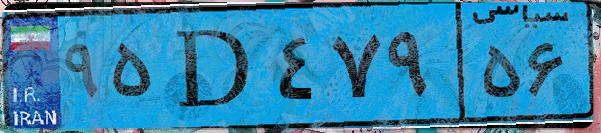4: (270, 28, 330, 110)
5: (475, 38, 525, 113), (110, 28, 158, 98)
6: (525, 38, 570, 115)
7: (330, 28, 385, 110)
9: (385, 28, 445, 110), (57, 26, 110, 100)
D: (158, 12, 270, 120)
